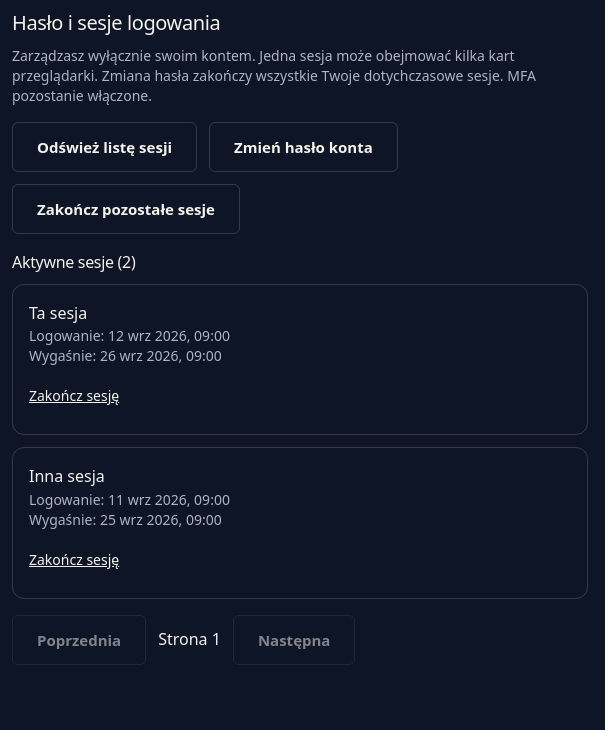
Test: account settings › keeps entered password but clears an MFA code after a failed operation
Step 1. Click the button with aria-label "Zakończ tę sesję" → click(74, 396), box 29,374 -> 119,418
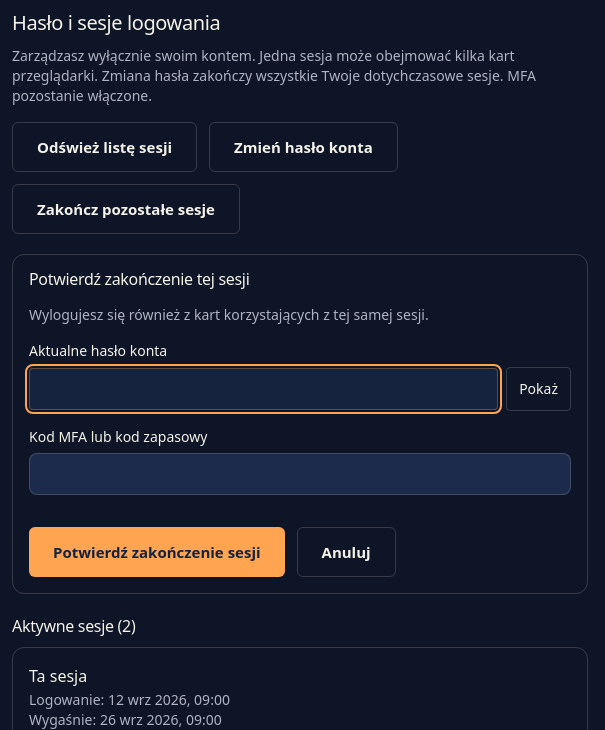
Step 2. Type "secret" into the password field labelled "Aktualne hasło konta" → (264, 389), box 29,368 -> 498,410
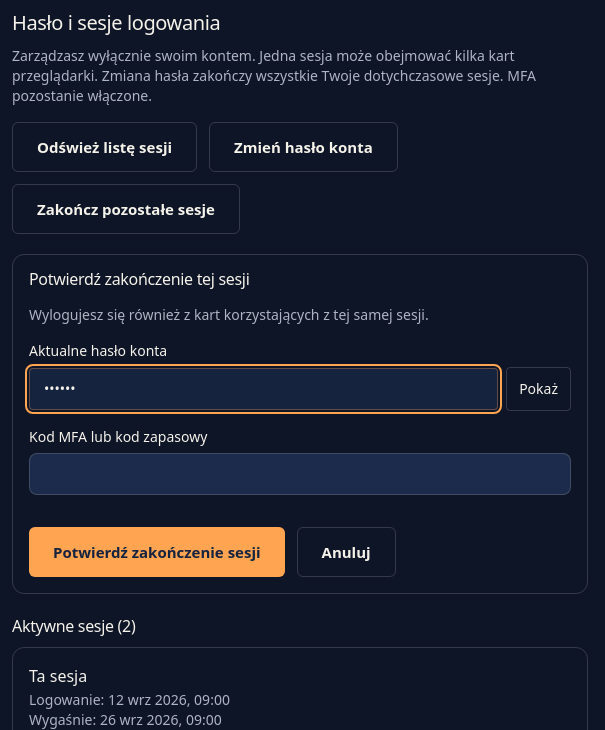
Step 3. Type "123456" into the field labelled "Kod MFA lub kod zapasowy" → (300, 474), box 29,453 -> 571,495
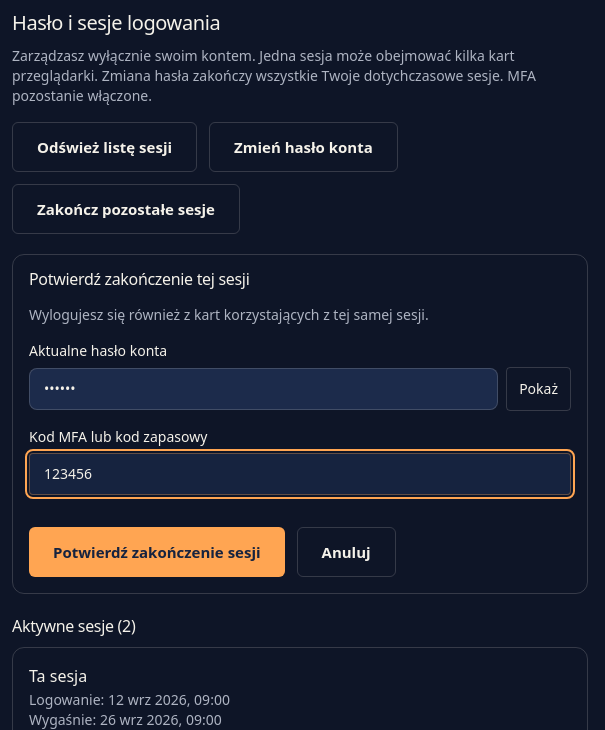
Step 4. Click the button "Potwierdź zakończenie sesji" → click(157, 552), box 29,527 -> 285,577
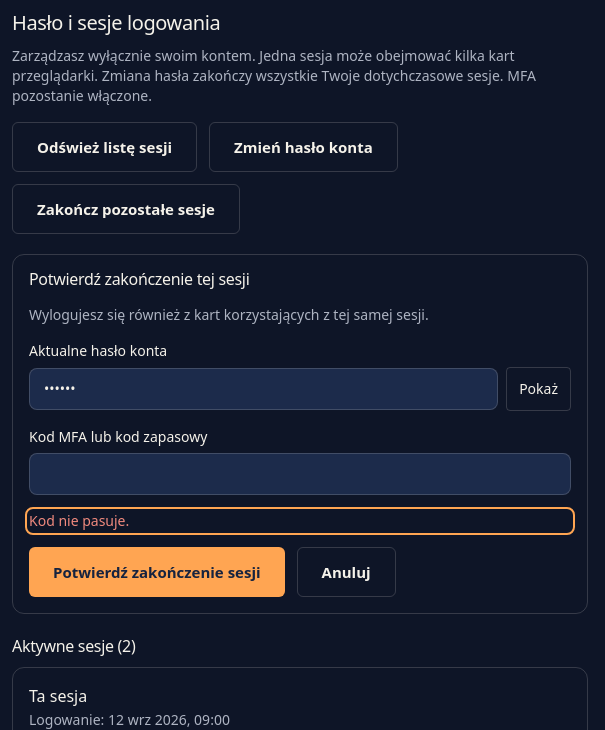
expect the text "Kod nie pasuje." is shown: met, box 29,511 -> 129,530
expect the field labelled "Kod MFA lub kod zapasowy" is empty: met, box 29,453 -> 571,495
